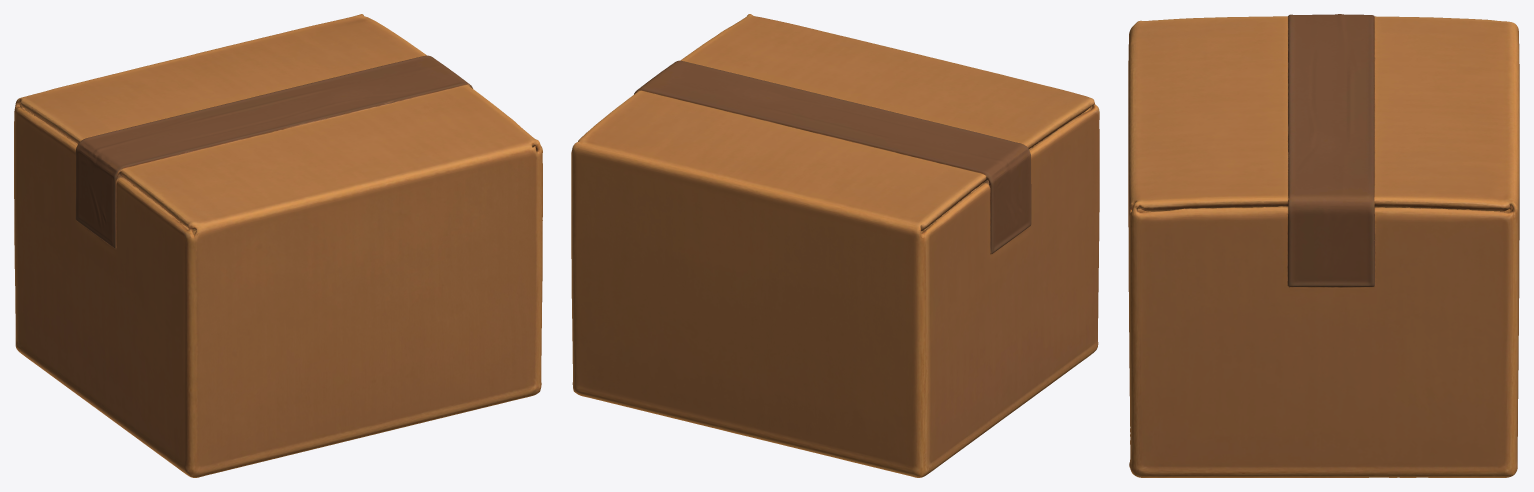
File: CardboardBox.glb
The picture shows the model from 3 angles, left to right: view 1: azimuth 30°, elevation 25°; view 2: azimuth 150°, elevation 25°; view 3: azimuth 270°, elevation 25°; orthographic projection. The views are drawn at different scales.
Visible parts, largest first — view 1: tripo_node_1e957437-199f-4393-b61e-c533460e5f64; view 2: tripo_node_1e957437-199f-4393-b61e-c533460e5f64; view 3: tripo_node_1e957437-199f-4393-b61e-c533460e5f64.
Boxes of the visible parts, bbox=[...] form: tripo_node_1e957437-199f-4393-b61e-c533460e5f64: bbox=[14, 14, 542, 477]; tripo_node_1e957437-199f-4393-b61e-c533460e5f64: bbox=[571, 14, 1099, 477]; tripo_node_1e957437-199f-4393-b61e-c533460e5f64: bbox=[1128, 14, 1519, 477].
Size of the model in its own units: 0.9793 by 0.6803 by 0.8509.
1 material, 1 textured.
